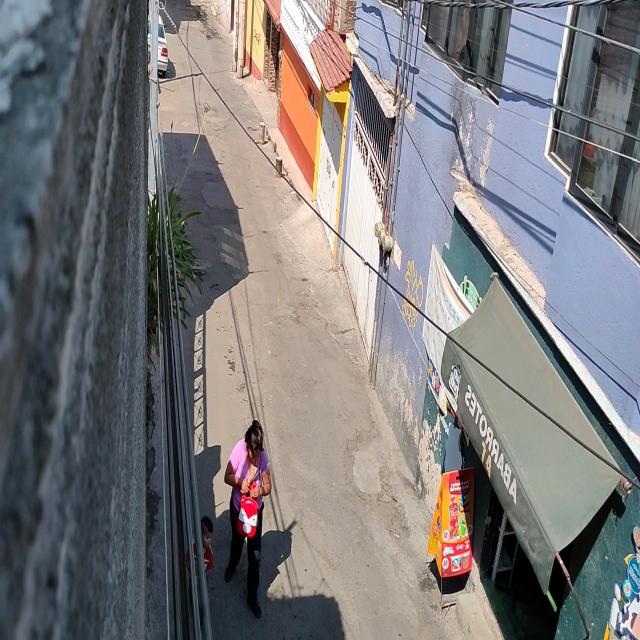adult: (223, 414, 273, 622)
